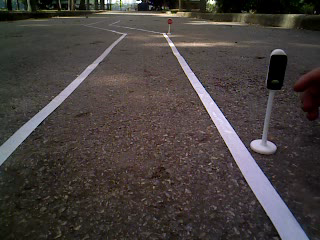Blue: (266, 47, 287, 92)
